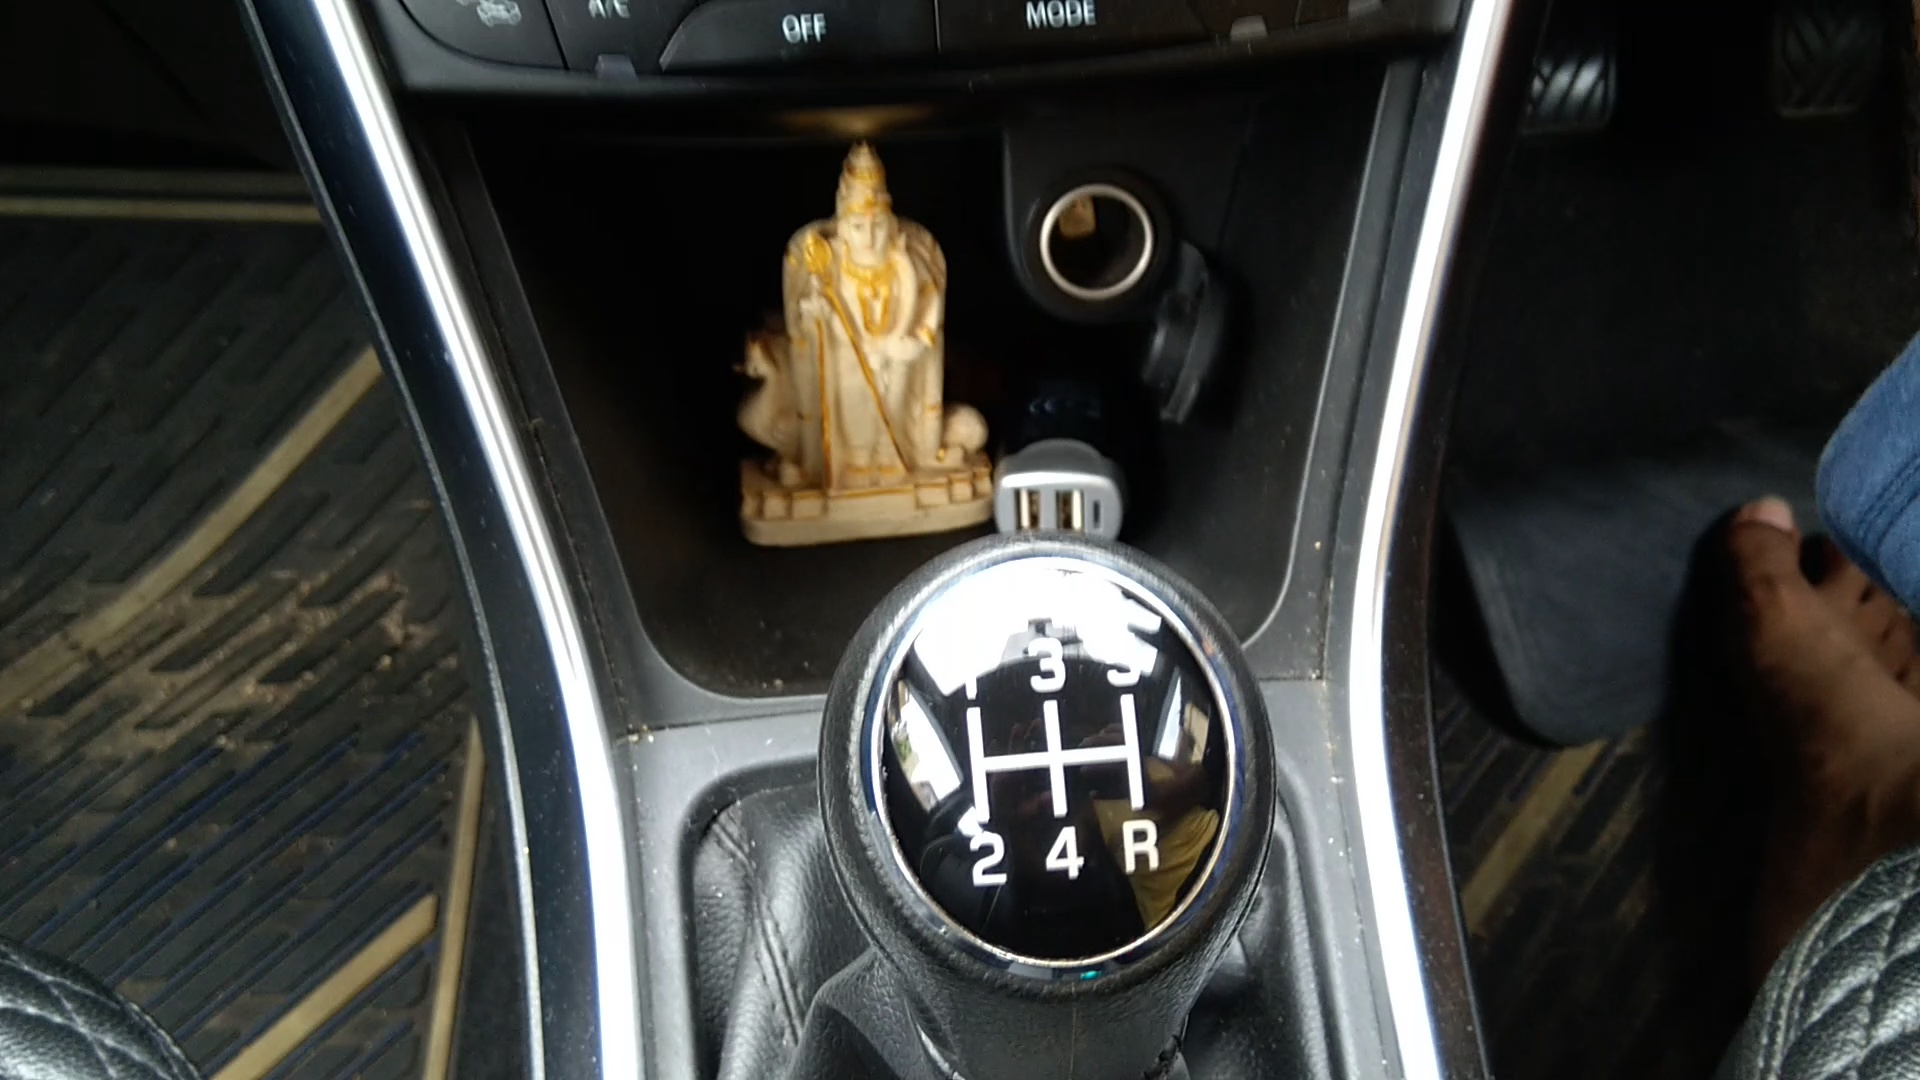manual_gear: (800, 531, 1284, 1080)
